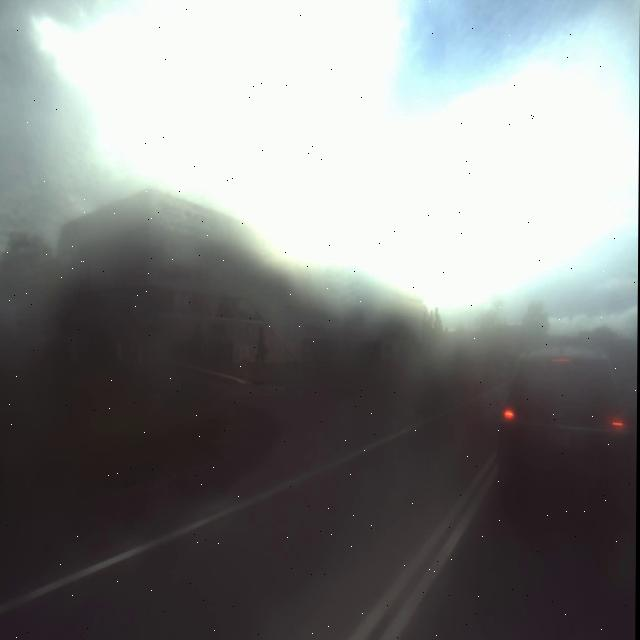car: (503, 337, 630, 522)
